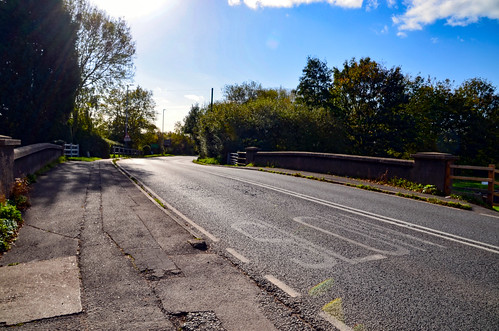sidewalk: (1, 156, 290, 328)
sky: (141, 1, 499, 66)
street: (125, 156, 499, 331)
vegetation: (192, 65, 497, 156), (1, 1, 125, 139)
